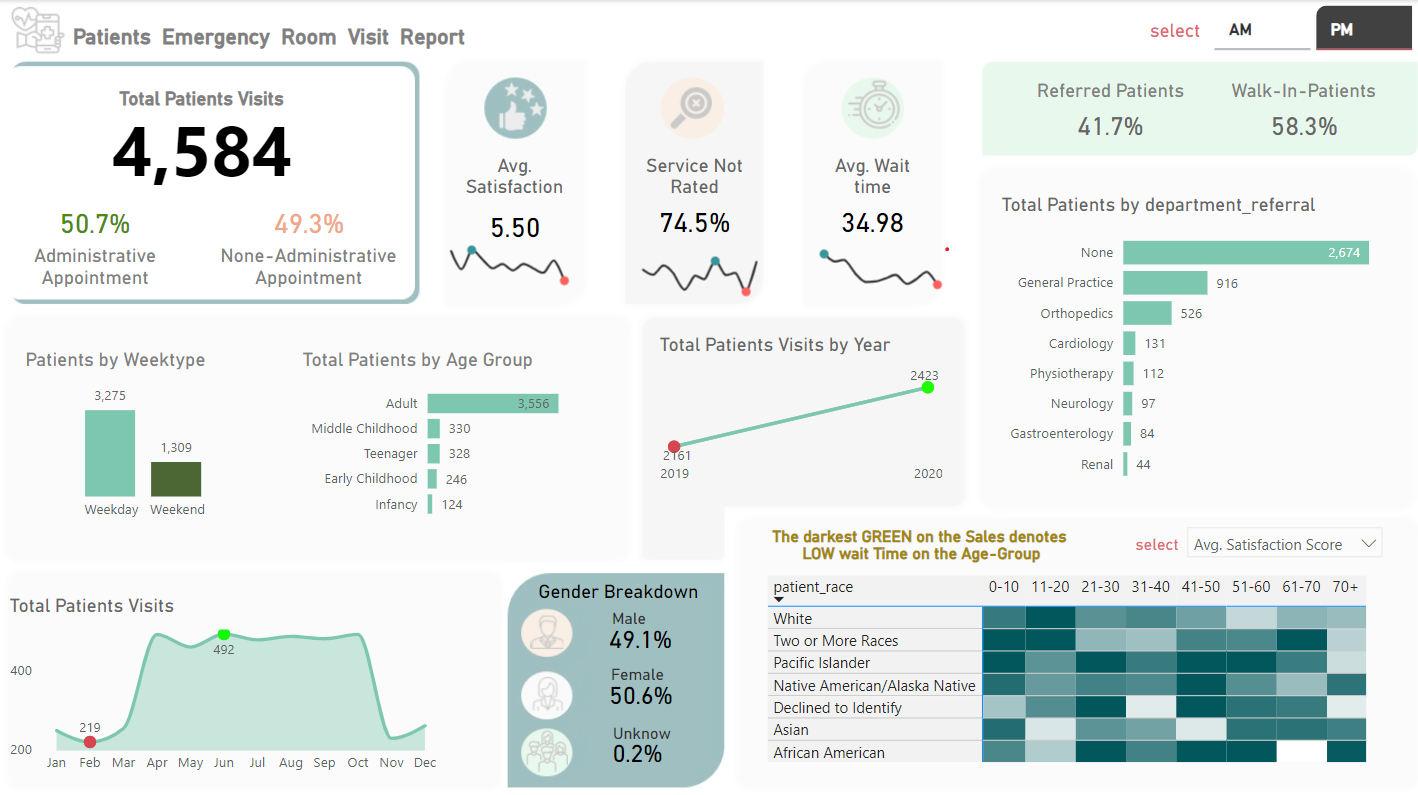

What the dashboard file says about the page in this screenshot:
{"tool":"powerbi","page":{"name":"Patients","canvas":[1280,720],"ordinal":1},"visuals":[{"type":"card","fields":{"Values":["Measures_.Total Patients ver.1"]},"box":[87.8,87.8,191.6,85.1],"z":0},{"type":"card","fields":{"Values":["Measures_.% Admins Schedule"]},"box":[37.6,181.8,99.4,34.9],"z":1000},{"type":"card","fields":{"Values":["Measures_.% None - Admins Schedule"]},"box":[235.5,178.2,87.8,43],"z":2000},{"type":"pivotTable","fields":{"Values":["Measures_.Average Satisfaction Score"],"Rows":["Patients Dataset.patient_race"],"Columns":["Patients Dataset.Age Bucket"]},"box":[685.1,510.4,569.6,180.9],"z":3000},{"type":"slicer","fields":{"Values":["Parameter.Parameter"]},"box":[1055.8,462.1,195.2,48.4],"z":4000},{"type":"clusteredBarChart","fields":{"Category":["Patients Dataset.Age Group"],"Y":["Measures_.Total Patients"]},"box":[268.7,311.6,271.3,163],"z":5000},{"type":"areaChart","title":"Total Patients Visits","fields":{"Y":["Measures_.Total Patients","Measures_.Values Max Point (Month)"],"Category":["Date.Month"]},"box":[6.3,531.9,394,169.3],"z":6000},{"type":"advancedSlicerVisual","fields":{"Values":["Patients Dataset.Moment"]},"box":[1085.4,0,187.2,50.1],"z":7000},{"type":"lineChart","title":"Total Patients Visits by Year","fields":{"Category":["Date.Year"],"Y":["Measures_.Total Patients","Measures_.Values Max Point (Year)"]},"box":[588.4,298.2,263.3,144.2],"z":8000},{"type":"clusteredBarChart","fields":{"Y":["Measures_.Total Patients"],"Category":["Patients Dataset.department_referral"]},"box":[894.6,172.8,374.3,269.6],"z":9000},{"type":"card","fields":{"Values":["Measures_.% of Un Referred Patients"]},"box":[1126.6,90.4,87.8,43],"z":10000},{"type":"card","fields":{"Values":["Measures_.% of Referred Patients"]},"box":[946.6,90.4,101.2,43],"z":11000},{"type":"card","fields":{"Values":["Measures_.HitMap Caption"]},"box":[676.1,463,303.6,51.9],"z":12000},{"type":"textbox","box":[20.6,214,134.3,48.4],"z":13000},{"type":"textbox","box":[189.9,214,178.2,48.4],"z":14000},{"type":"card","title":"Avg. Satisfaction","fields":{"Values":["Measures_.Average Satisfaction Score"]},"box":[404.8,137.9,117.3,92.2],"z":15000},{"type":"card","title":"Avg. Wait time","fields":{"Values":["Measures_.Average Wait Time"]},"box":[737.9,137.9,92.2,83.3],"z":16000},{"type":"card","title":"Service Not Rated","fields":{"Values":["Measures_.% No Rating"]},"box":[557.9,137.9,133.4,83.3],"z":17000},{"type":"textbox","box":[912.5,66.3,169.3,37.6],"z":18000},{"type":"textbox","box":[1085.4,66.3,169.3,37.6],"z":19000},{"type":"clusteredColumnChart","title":"Patients by Weektype","fields":{"Y":["Measures_.Total Patients"],"Category":["Date.Weektype"]},"box":[20.6,311.6,223,163],"z":20000},{"type":"textbox","box":[69.9,73.4,226.6,33.1],"z":21000},{"type":"card","fields":{"Values":["Measures_.% Female Visit"]},"box":[538.2,550.7,76.1,43],"z":21000,"group":"g2"},{"type":"PBI_CV_25997FEB_F466_44FA_B562_AC4063283C4C","fields":{"measure":["Measures_.Average Satisfaction Score"],"axis":["Date.Month"]},"box":[388.7,206.9,141.5,55.5],"z":22000},{"type":"card","fields":{"Values":["Measures_.% Male Visit"]},"box":[538.2,600.9,76.1,43],"z":22000},{"type":"PBI_CV_25997FEB_F466_44FA_B562_AC4063283C4C","fields":{"axis":["Date.Month"],"measure":["Measures_.% No Rating"]},"box":[560.6,216.7,141.5,55.5],"z":23000},{"type":"card","fields":{"Values":["Measures_.% Unknown"]},"box":[535.5,652.9,76.1,43],"z":23000,"group":"g1"},{"type":"PBI_CV_25997FEB_F466_44FA_B562_AC4063283C4C","fields":{"axis":["Date.Month"],"measure":["Measures_.Average Wait Time"]},"box":[722.7,210.4,141.5,55.5],"z":24000},{"type":"textbox","box":[443.3,514.9,226.6,33.1],"z":25000},{"type":"group","id":"g1","title":"Group 1","box":[535.5,643,78.8,52.8],"z":26000},{"type":"textbox","box":[536.4,540,59.1,32.2],"z":27002,"group":"g2"},{"type":"textbox","box":[539.1,590.1,69,38.5],"z":27003},{"type":"textbox","box":[540.9,643,73.4,31.3],"z":27004,"group":"g1"},{"type":"group","id":"g2","title":"Group 3","box":[536.4,540,77.9,53.7],"z":28000},{"type":"textbox","box":[1002.1,473.7,73.4,33.1],"z":28001},{"type":"textbox","box":[20.6,16.1,446,34],"z":28002},{"type":"textbox","box":[1018.2,12.5,73.4,33.1],"z":28003}]}

Visuals, with their boxes in screenshot pixels (x1, y1, x2, y2), scaled from the page's 1280x720 canvas onto the 1418x795 screenshot:
card - Measures_.Total Patients ver.1: (97, 97, 310, 191)
card - Measures_.% Admins Schedule: (42, 201, 152, 239)
card - Measures_.% None - Admins Schedule: (261, 197, 358, 244)
pivotTable - Measures_.Average Satisfaction Score x Patients Dataset.patient_race: (759, 564, 1390, 763)
slicer - Parameter.Parameter: (1170, 510, 1386, 564)
clusteredBarChart - Patients Dataset.Age Group x Measures_.Total Patients: (298, 344, 598, 524)
"Total Patients Visits" areaChart: (7, 587, 443, 774)
advancedSlicerVisual - Patients Dataset.Moment: (1202, 0, 1410, 55)
"Total Patients Visits by Year" lineChart: (652, 329, 944, 488)
clusteredBarChart - Measures_.Total Patients x Patients Dataset.department_referral: (991, 191, 1406, 488)
card - Measures_.% of Un Referred Patients: (1248, 100, 1345, 147)
card - Measures_.% of Referred Patients: (1049, 100, 1161, 147)
card - Measures_.HitMap Caption: (749, 511, 1085, 569)
textbox: (23, 236, 172, 290)
textbox: (210, 236, 408, 290)
"Avg. Satisfaction" card: (448, 152, 578, 254)
"Avg. Wait time" card: (817, 152, 920, 244)
"Service Not Rated" card: (618, 152, 766, 244)
textbox: (1011, 73, 1198, 115)
textbox: (1202, 73, 1390, 115)
"Patients by Weektype" clusteredColumnChart: (23, 344, 270, 524)
textbox: (77, 81, 328, 118)
card - Measures_.% Female Visit: (596, 608, 681, 656)
PBI_CV_25997FEB_F466_44FA_B562_AC4063283C4C - Measures_.Average Satisfaction Score x Date.Month: (431, 228, 587, 290)
card - Measures_.% Male Visit: (596, 663, 681, 711)
PBI_CV_25997FEB_F466_44FA_B562_AC4063283C4C - Date.Month x Measures_.% No Rating: (621, 239, 778, 301)
card - Measures_.% Unknown: (593, 721, 678, 768)
PBI_CV_25997FEB_F466_44FA_B562_AC4063283C4C - Date.Month x Measures_.Average Wait Time: (801, 232, 957, 294)
textbox: (491, 569, 742, 605)
"Group 1" group: (593, 710, 681, 768)
textbox: (594, 596, 660, 632)
textbox: (597, 652, 674, 694)
textbox: (599, 710, 681, 745)
"Group 3" group: (594, 596, 681, 656)
textbox: (1110, 523, 1191, 560)
textbox: (23, 18, 517, 55)
textbox: (1128, 14, 1209, 50)
